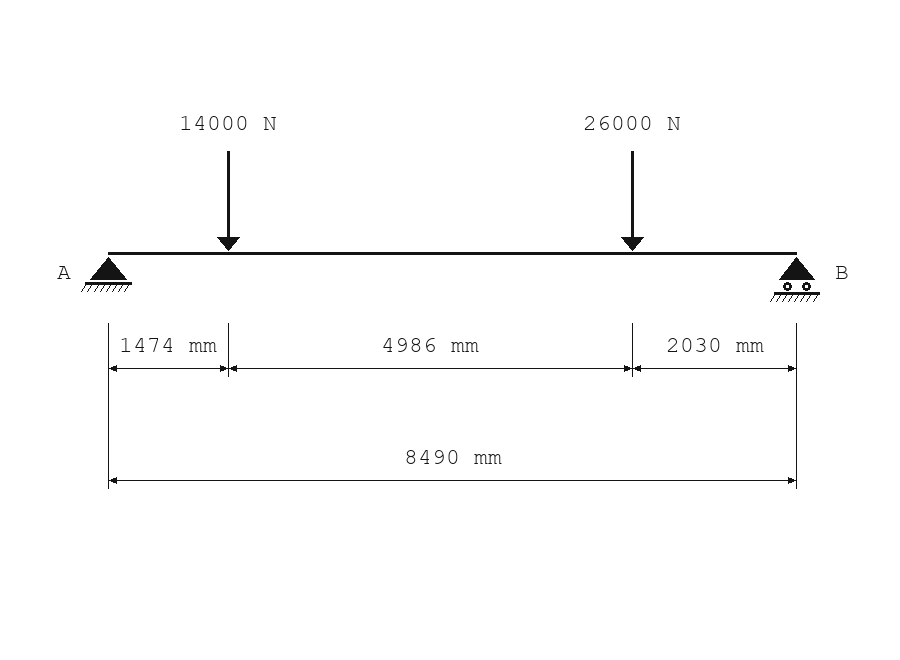pin_support: (81, 257, 132, 292)
point_load: (217, 151, 240, 251), (621, 151, 644, 251)
roller_support: (770, 257, 820, 302)
